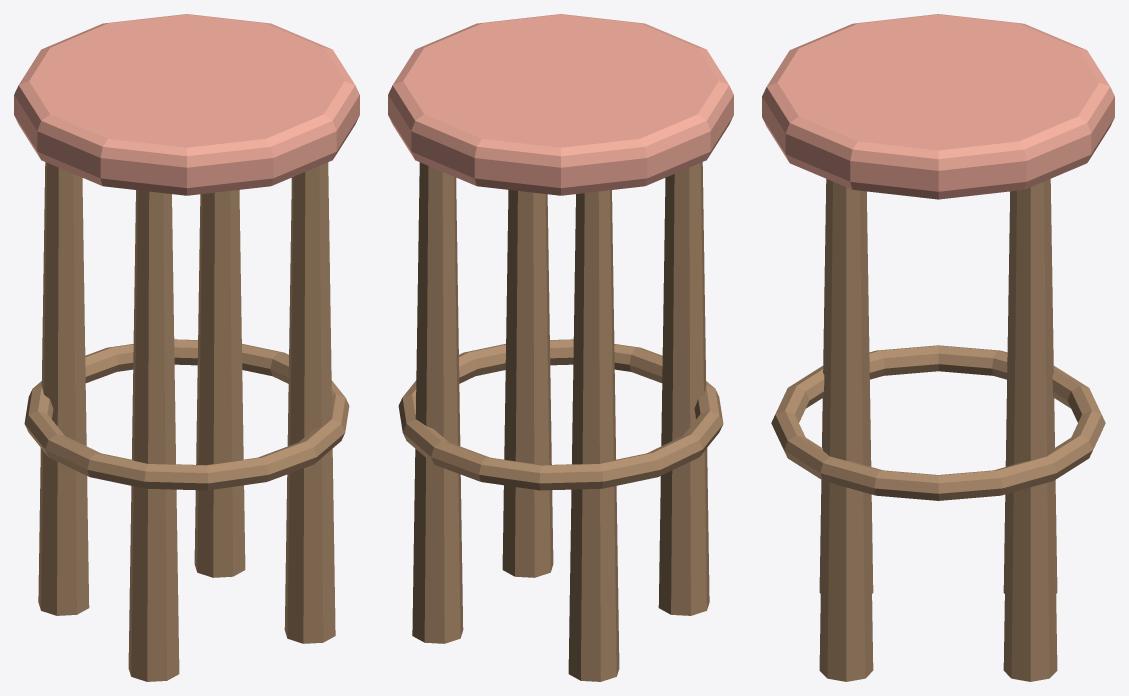
Rendered from cozy-home-interiors-bar-stool-7f616d86.glb.
3 renders of one model, left to right at view 1: azimuth 30°, elevation 25°; view 2: azimuth 150°, elevation 25°; view 3: azimuth 270°, elevation 25°, orthographic. The views are drawn at different scales.
Parts seen in each view (by area): view 1: bar-stool; view 2: bar-stool; view 3: bar-stool.
Boxes of the visible parts, x1,y1,x2,y2 form: bar-stool: [14, 14, 359, 681]; bar-stool: [388, 14, 733, 681]; bar-stool: [762, 14, 1114, 681].
Bounding box in the file's own units: 0.46 × 0.79 × 0.46.
